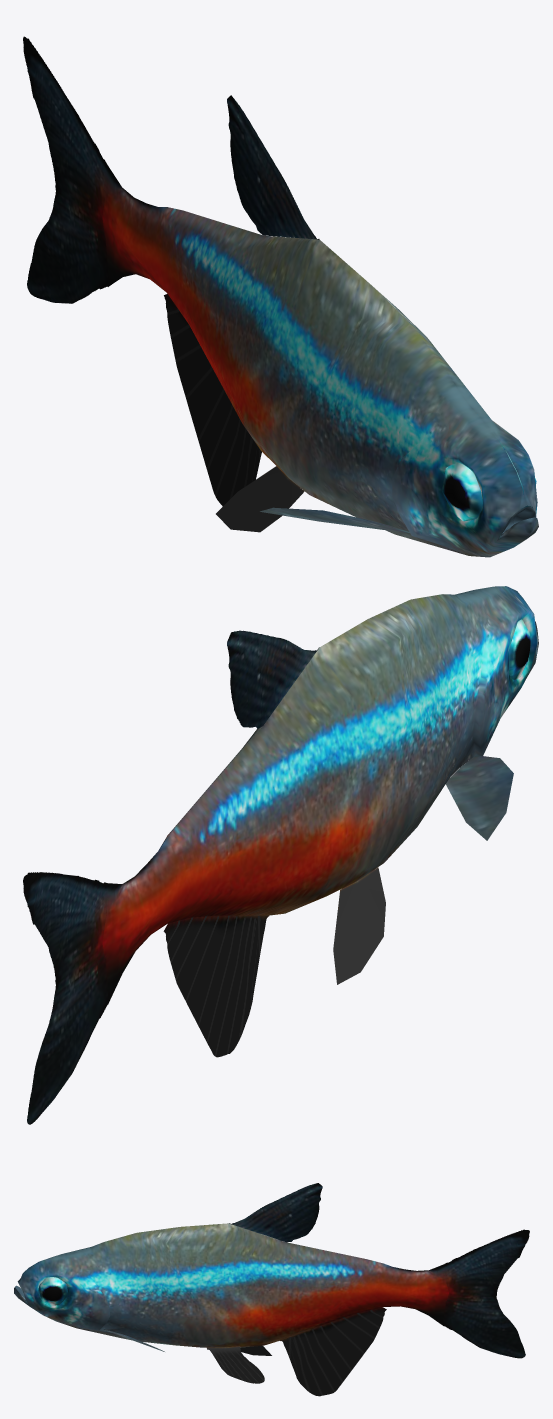
The model's file is fish_tetraneon_low.fbx.
The picture shows the model from 3 angles, top to bottom: view 1: azimuth 30°, elevation 25°; view 2: azimuth 150°, elevation 25°; view 3: azimuth 270°, elevation 25°; orthographic projection. The views are drawn at different scales.
Parts seen in each view (by area): view 1: fish_tetraneon_low; view 2: fish_tetraneon_low; view 3: fish_tetraneon_low.
Part boxes in pixels (box(x1,y1,x2,y2)): fish_tetraneon_low: box(23, 36, 538, 557); fish_tetraneon_low: box(23, 586, 538, 1124); fish_tetraneon_low: box(14, 1183, 529, 1396).
Bounding box in the file's own units: 0.1816 × 0.342 × 0.6975.
